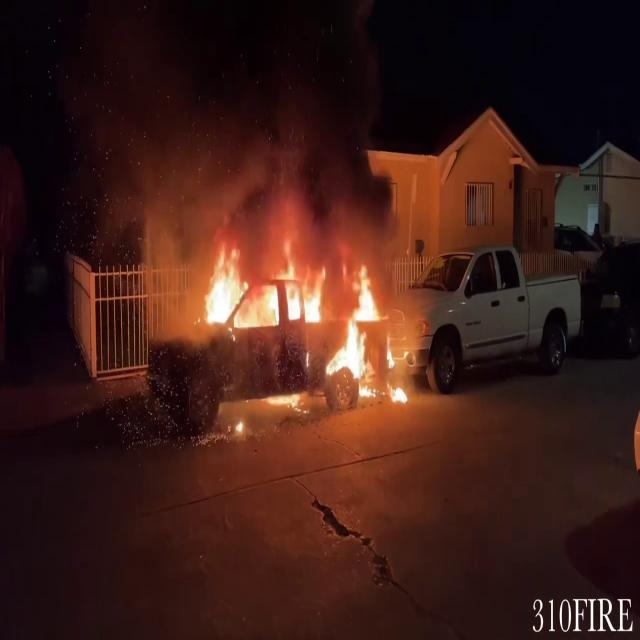Fire: (188, 234, 412, 398)
Smoke: (113, 2, 410, 256)
